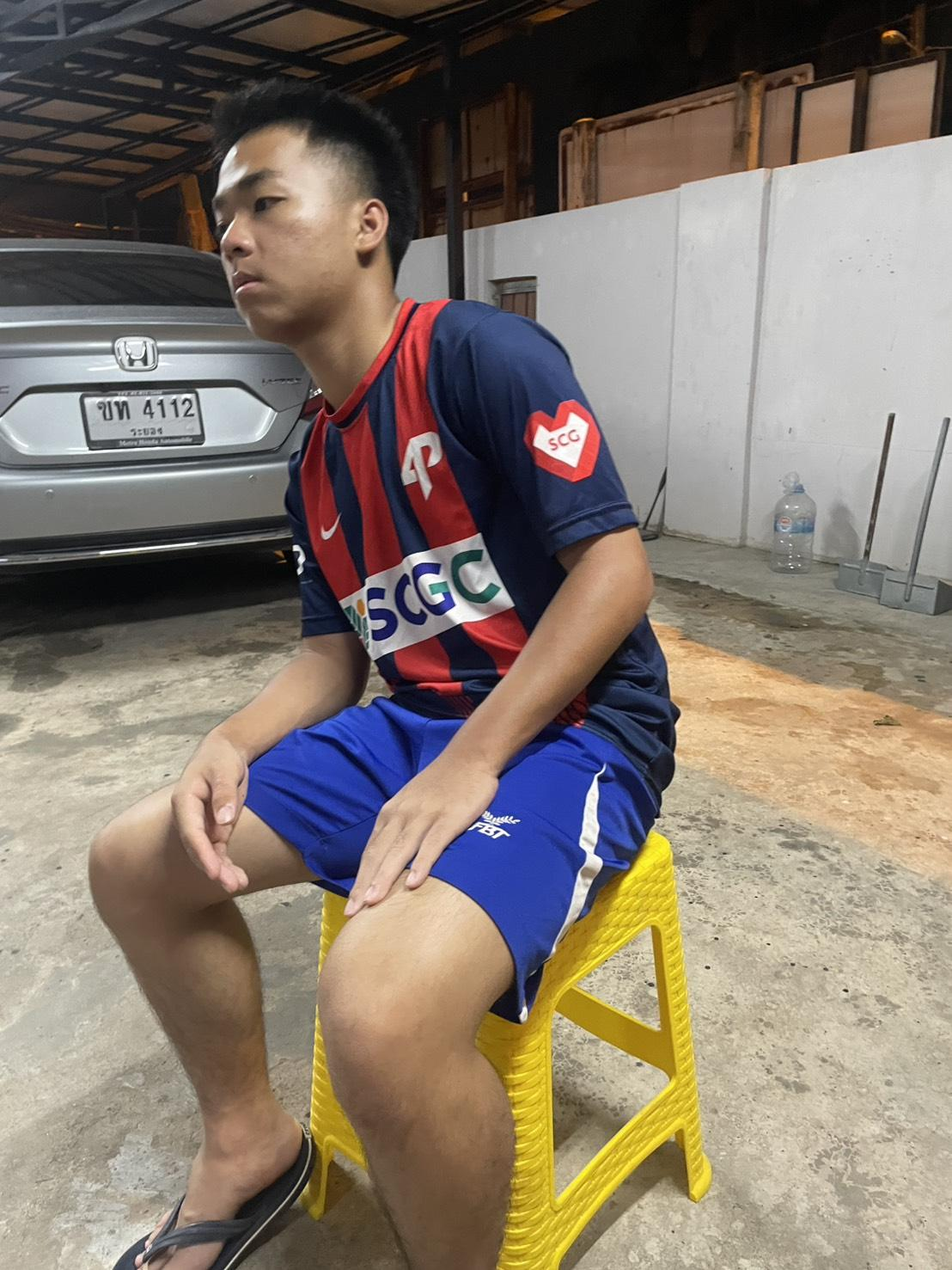BadPosture: (195, 80, 678, 816)
